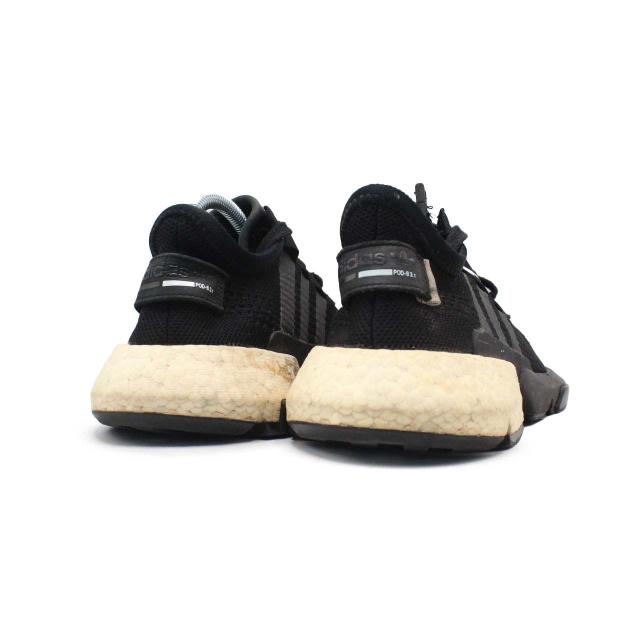heel: (126, 204, 327, 353), (323, 187, 504, 352)
midsole: (286, 348, 524, 451), (90, 341, 298, 438)
